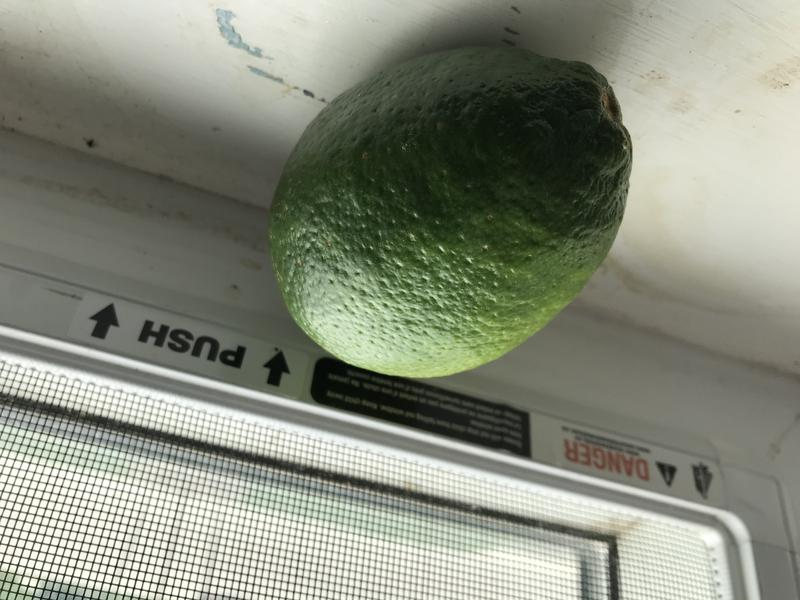lime: (251, 32, 646, 395)
